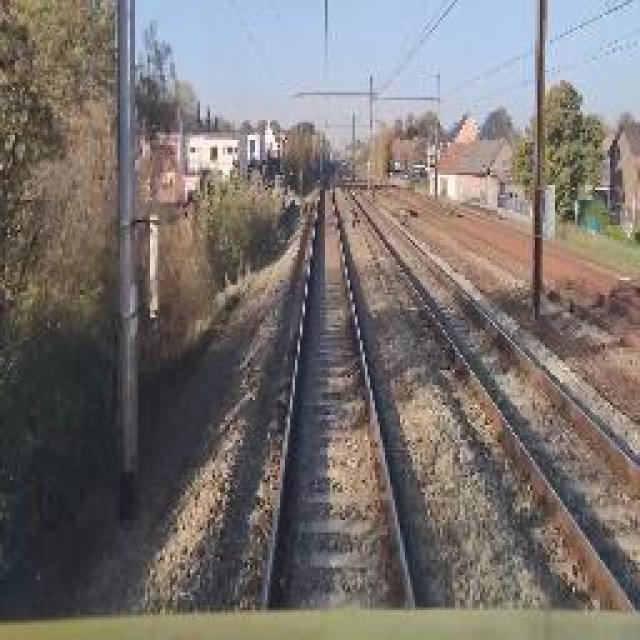rail: (333, 162, 640, 609), (233, 165, 440, 612)
